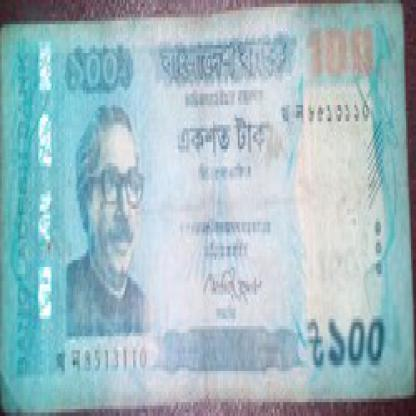one hundred taka: (303, 18, 386, 84), (323, 308, 394, 371), (60, 42, 130, 100)
